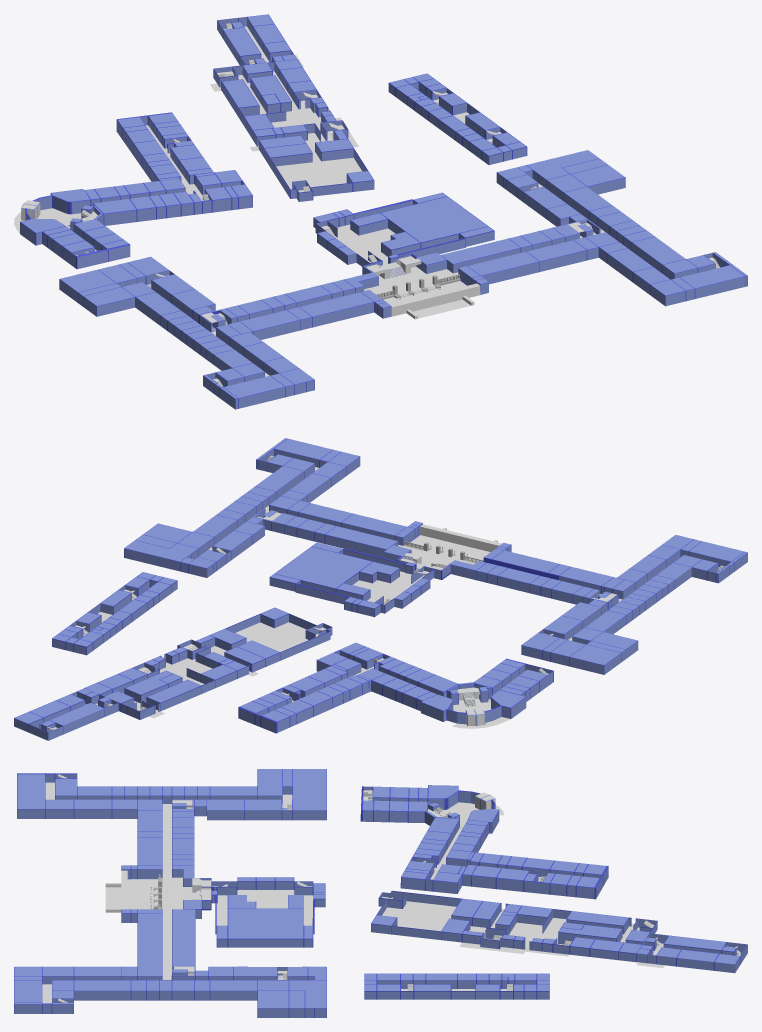
Rendered from dstu_1.glb.
The picture shows the model from 3 angles, top to bottom: view 1: azimuth 30°, elevation 25°; view 2: azimuth 150°, elevation 25°; view 3: azimuth 270°, elevation 25°; orthographic projection. The views are drawn at different scales.
Parts seen in each view (by area): view 1: Plane.002, Plane.013, Plane.008, 7.1, K1, 1, 61, Cube.001, ExtraPlane, Plane; view 2: Plane.002, Plane.013, Plane.008, 7.1, K1, 1, 61, ExtraPlane, Cube.001; view 3: Plane.002, Plane.013, Plane.008, 7.1, K1, 1, 61, ExtraPlane, ExtraPlane.001, Cube.001, Plane.
Boxes of the visible parts, x1,y1,x2,y2 form: Plane.002: (59,170,747,409); Plane.013: (59,150,746,408); Plane.008: (14,112,252,269); 7.1: (210,59,374,201); K1: (313,192,494,266); 1: (388,73,527,164); 61: (217,14,303,66); Cube.001: (390,283,480,319); ExtraPlane: (211,183,604,376); Plane: (368,256,426,285); Plane.002: (124,439,747,674); Plane.013: (124,438,732,674); Plane.008: (238,642,553,733); 7.1: (84,607,332,719); K1: (269,542,434,617); 1: (52,572,177,655); 61: (14,688,118,740); ExtraPlane: (209,467,719,640); Cube.001: (420,524,500,551); Plane.002: (14,769,326,1017); Plane.013: (14,769,326,1017); Plane.008: (360,785,608,899); 7.1: (371,890,657,962); K1: (211,877,325,947); 1: (364,973,549,999); 61: (637,933,747,973); ExtraPlane: (42,782,292,1002); ExtraPlane.001: (42,783,291,1002); Cube.001: (105,870,127,912); Plane: (183,878,211,899).
Size of the model in its own units: 179 by 4.88 by 232.
